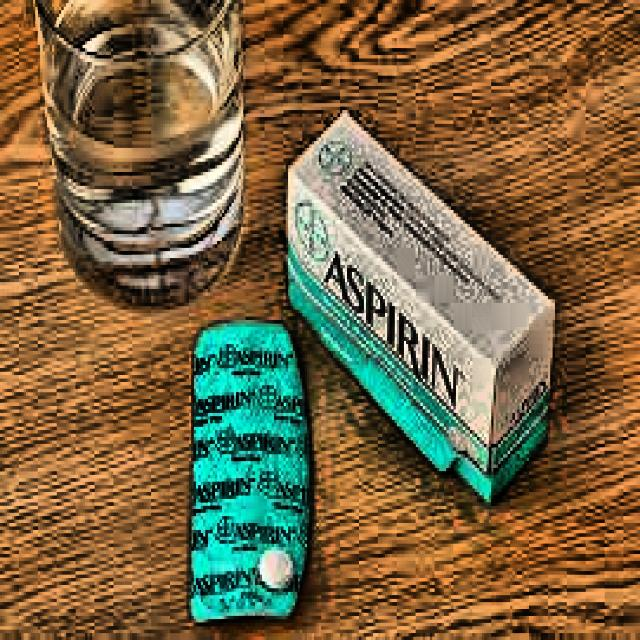Aspirin: (288, 168, 496, 500)
